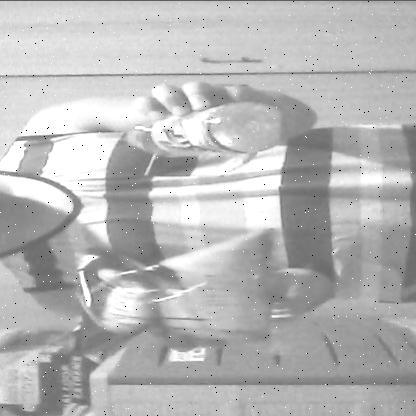Plastic Bottle: (105, 91, 298, 165)
